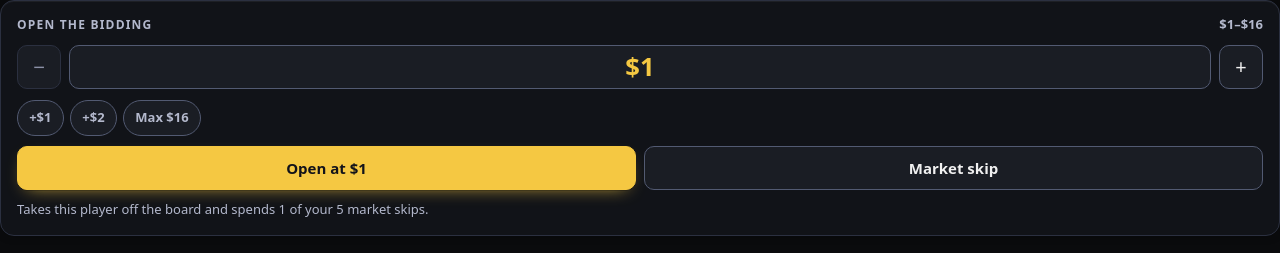
Test: bid controls are a designed auction control, not a form › opens at the server's minimum and steps in whole dollars
The width and height of the screenshot is (1280, 253).
Check: the text with test id "td-bid-amount" reads "$1", box [625,49,655,84]
Click the button with test id "td-bid-plus": (1241, 67) [1219,45,1263,89]
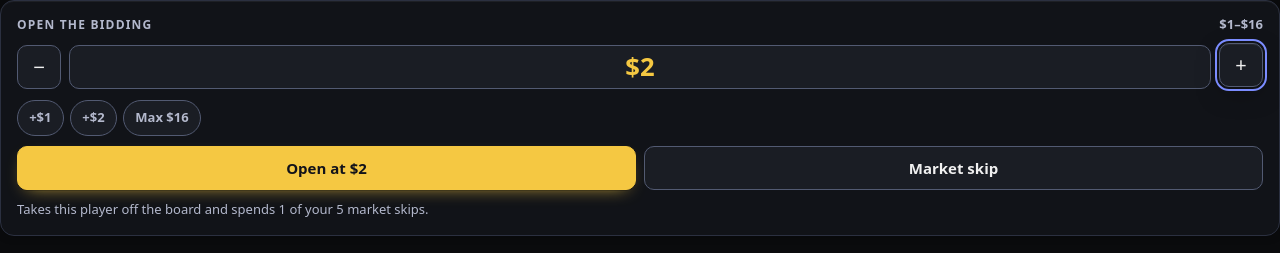
Check: the text with test id "td-bid-amount" reads "$2", box [625,49,655,84]
Click the button with test id "td-bid-plus-2": (93, 118) [70,100,117,136]
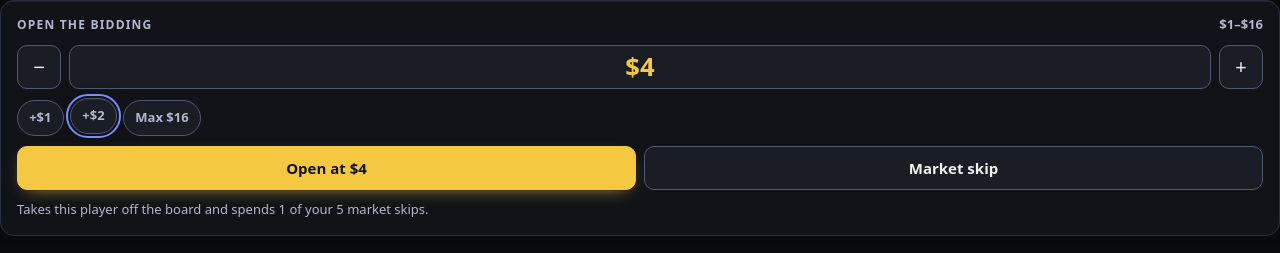
Check: the text with test id "td-bid-amount" reads "$4", box [625,49,655,84]
Click the button with test id "td-bid-minus": (39, 67) [17,45,61,89]
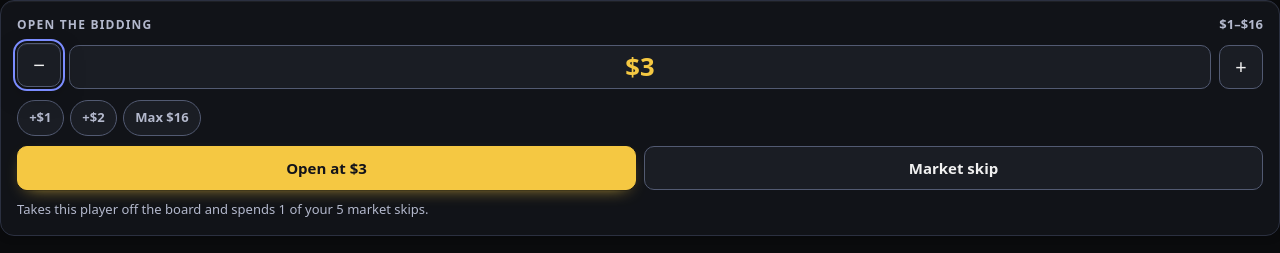
Check: the text with test id "td-bid-amount" reads "$3", box [625,49,655,84]
